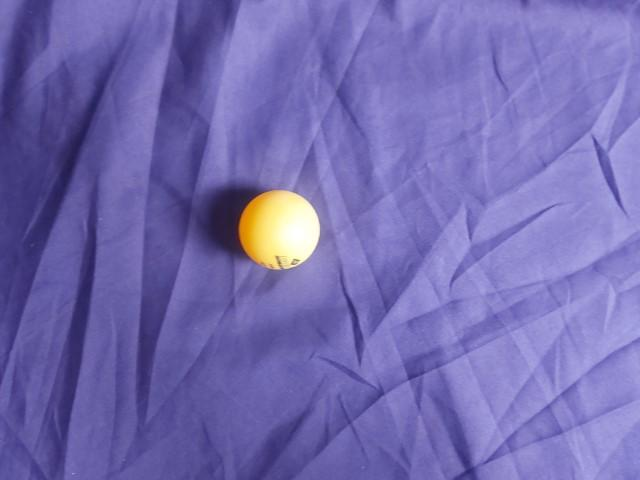oball: (304, 204, 408, 303)
